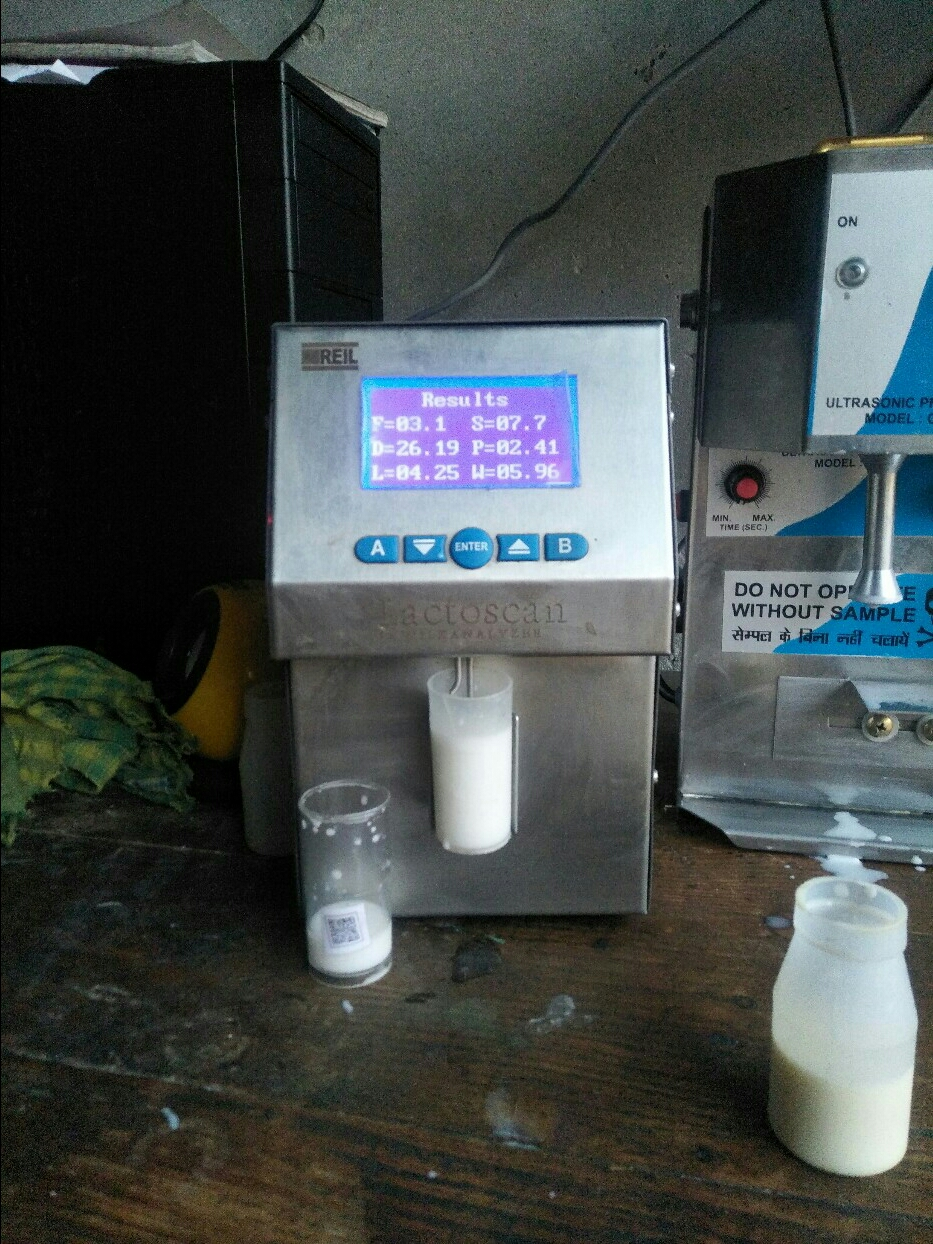lcd: (359, 378, 582, 491)
qr: (320, 914, 371, 954)
